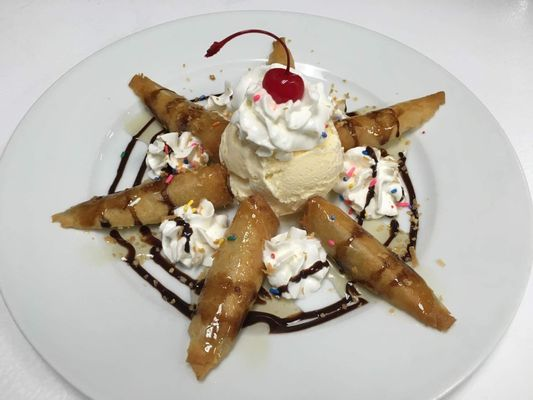curry: (6, 1, 532, 400)
